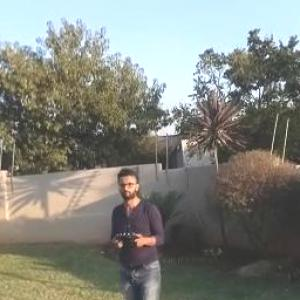follow: (109, 164, 170, 299)
